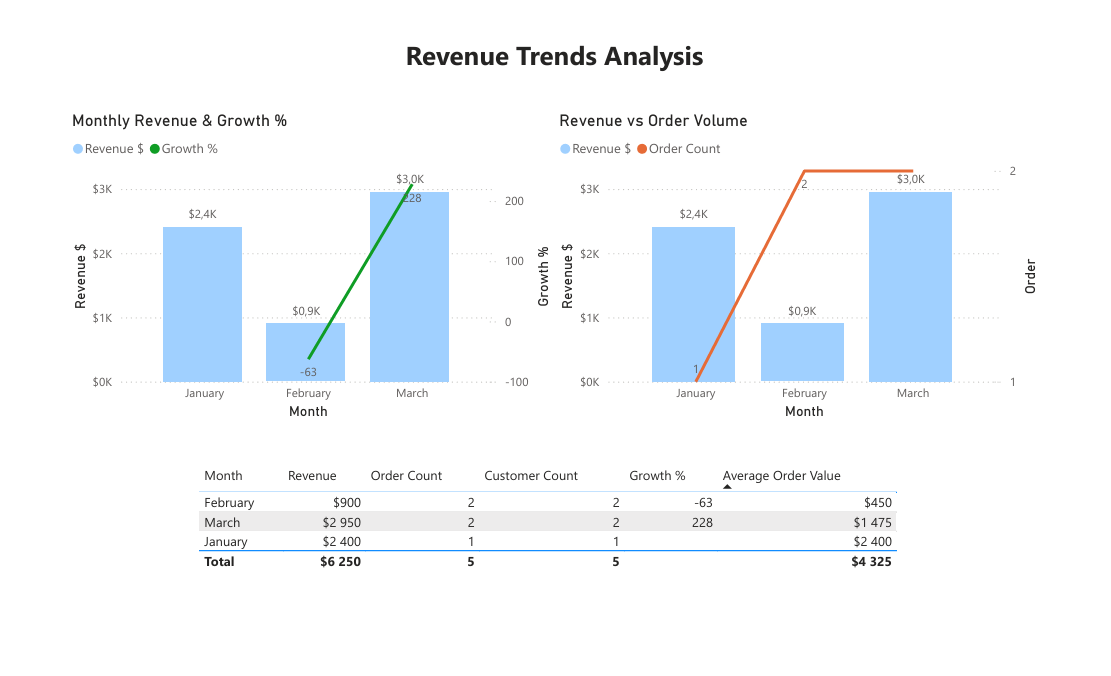

The page's visual inventory and layout, read from the dashboard file:
{"tool":"powerbi","page":{"name":"Trends","canvas":[1280,720],"ordinal":1},"visuals":[{"type":"lineClusteredColumnComboChart","title":"Monthly Revenue & Growth %","fields":{"Category":["Supabase Snippet monthly_revenue_metrics sql.month.Variation.Date Hierarchy.Month"],"Y":["Sum(Supabase Snippet monthly_revenue_metrics sql.revenue)"],"Y2":["Avg(Supabase Snippet monthly_revenue_metrics sql.growth_percentage)"]},"box":[139,81,501,322],"z":0},{"type":"lineClusteredColumnComboChart","title":"Revenue vs Order Volume","fields":{"Category":["Supabase Snippet monthly_revenue_metrics sql.month.Variation.Date Hierarchy.Month"],"Y":["Sum(Supabase Snippet monthly_revenue_metrics sql.revenue)"],"Y2":["Sum(Supabase Snippet monthly_revenue_metrics sql.order_count)"]},"box":[640,81,501,322],"z":1000},{"type":"tableEx","fields":{"Values":["Supabase Snippet monthly_revenue_metrics sql.month.Variation.Date Hierarchy.Month","Sum(Supabase Snippet monthly_revenue_metrics sql.revenue)","Sum(Supabase Snippet monthly_revenue_metrics sql.order_count)","Sum(Supabase Snippet monthly_revenue_metrics sql.customer_count)","Supabase Snippet monthly_revenue_metrics sql.growth_percentage","Sum(Supabase Snippet monthly_revenue_metrics sql.avg_order_value)"]},"box":[269,441,741,120],"z":2000},{"type":"textbox","box":[449,0,382,81],"z":3000}]}

Visuals, with their boxes on the page's 1280x720 design canvas (x1, y1, x2, y2). These are canvas units, not pixel positions in the 1111x676 screenshot, which may show the page scaled, cropped or inside an application window:
"Monthly Revenue & Growth %" lineClusteredColumnComboChart: <bbox>139, 81, 640, 403</bbox>
"Revenue vs Order Volume" lineClusteredColumnComboChart: <bbox>640, 81, 1141, 403</bbox>
tableEx - Supabase Snippet monthly_revenue_metrics sql.month.Variation.Date Hierarchy.Month x Sum(Supabase Snippet monthly_revenue_metrics sql.revenue): <bbox>269, 441, 1010, 561</bbox>
textbox: <bbox>449, 0, 831, 81</bbox>
